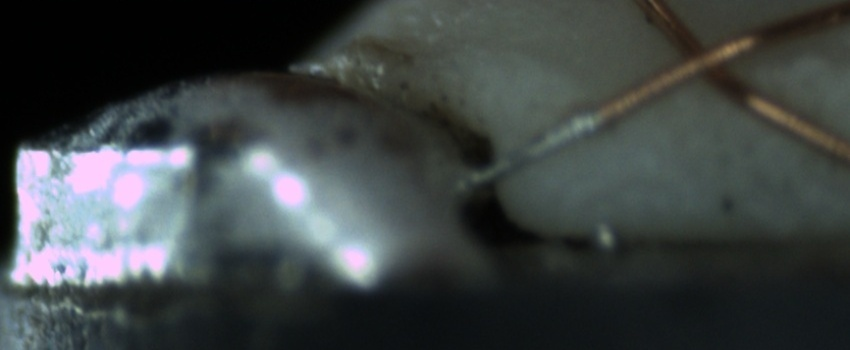CL: (657, 20, 751, 97)
TS: (461, 113, 601, 186)
